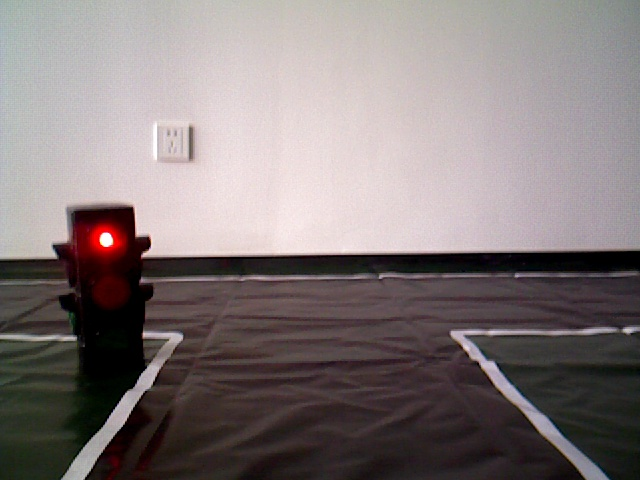red: (66, 208, 144, 367)
